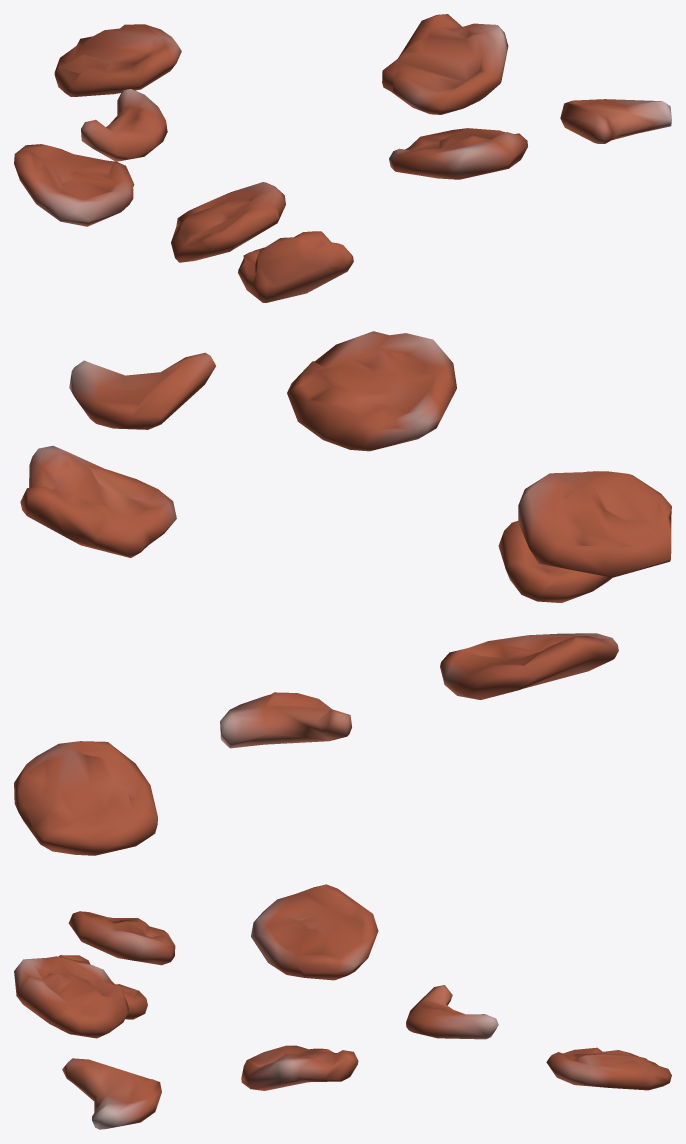
3 renders of one model, top to bottom at view 1: azimuth 30°, elevation 25°; view 2: azimuth 150°, elevation 25°; view 3: azimuth 270°, elevation 25°, orthographic. The views are drawn at different scales.
Visible parts, largest first — view 1: LOD 3_14118979198586646984_820756dedd5b3434c8e6bed8ae6a193b; view 2: LOD 3_14118979198586646984_820756dedd5b3434c8e6bed8ae6a193b; view 3: LOD 3_14118979198586646984_820756dedd5b3434c8e6bed8ae6a193b.
Boxes of the visible parts, x1=… form: LOD 3_14118979198586646984_820756dedd5b3434c8e6bed8ae6a193b: x1=14, y1=14, x2=671, y2=302; LOD 3_14118979198586646984_820756dedd5b3434c8e6bed8ae6a193b: x1=14, y1=331, x2=671, y2=855; LOD 3_14118979198586646984_820756dedd5b3434c8e6bed8ae6a193b: x1=14, y1=884, x2=671, y2=1129.
Size of the model in its own units: 2.56 by 0.7198 by 2.93.
